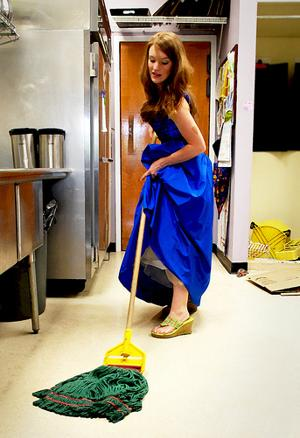person: (116, 31, 214, 341)
